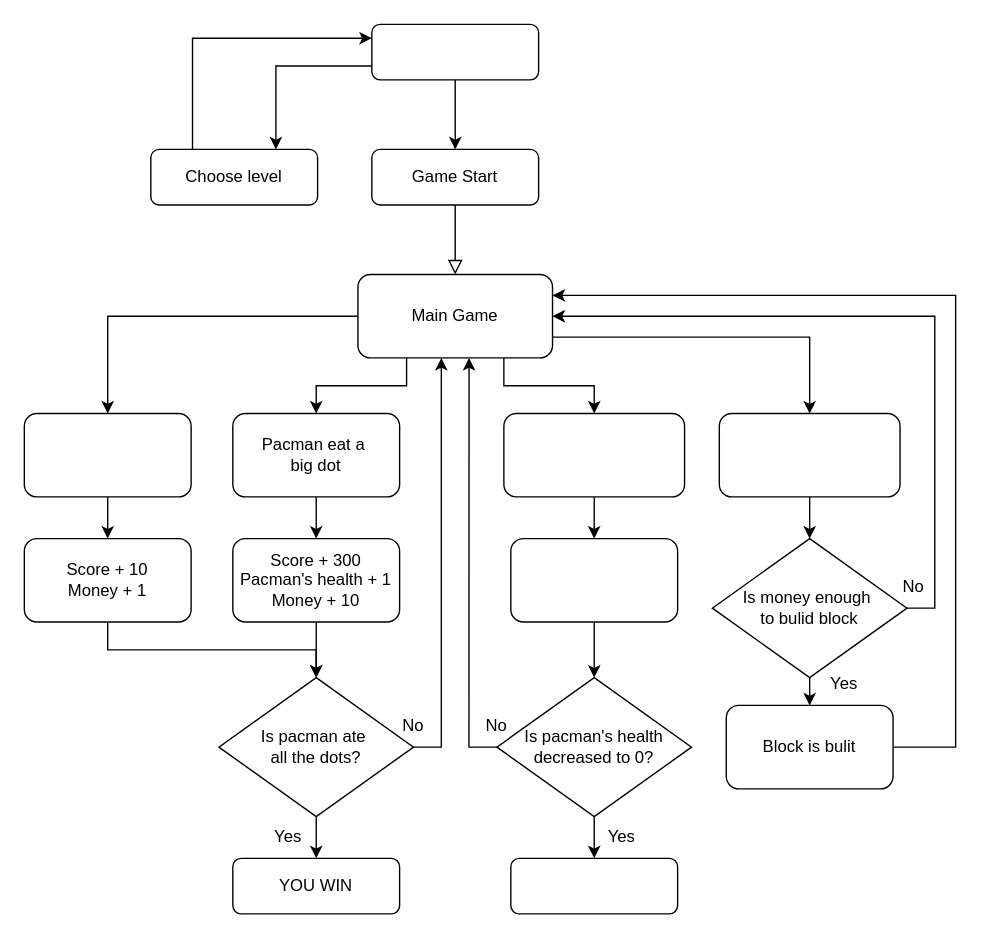
Some shapes in this 991 by 938 pixel diagram are drawn without their labels. Each missing label, with the centre of its shape:
"Click on map to try to bulid block" goes at (x=809, y=454).
"GAME OVER" goes at (x=593, y=885).
"Ghost caught pacman" goes at (x=593, y=454).
"Pacman eat a small dot" goes at (x=107, y=454).
"Pacman's health -1" goes at (x=593, y=579).
"Start Menu" goes at (x=454, y=51).
